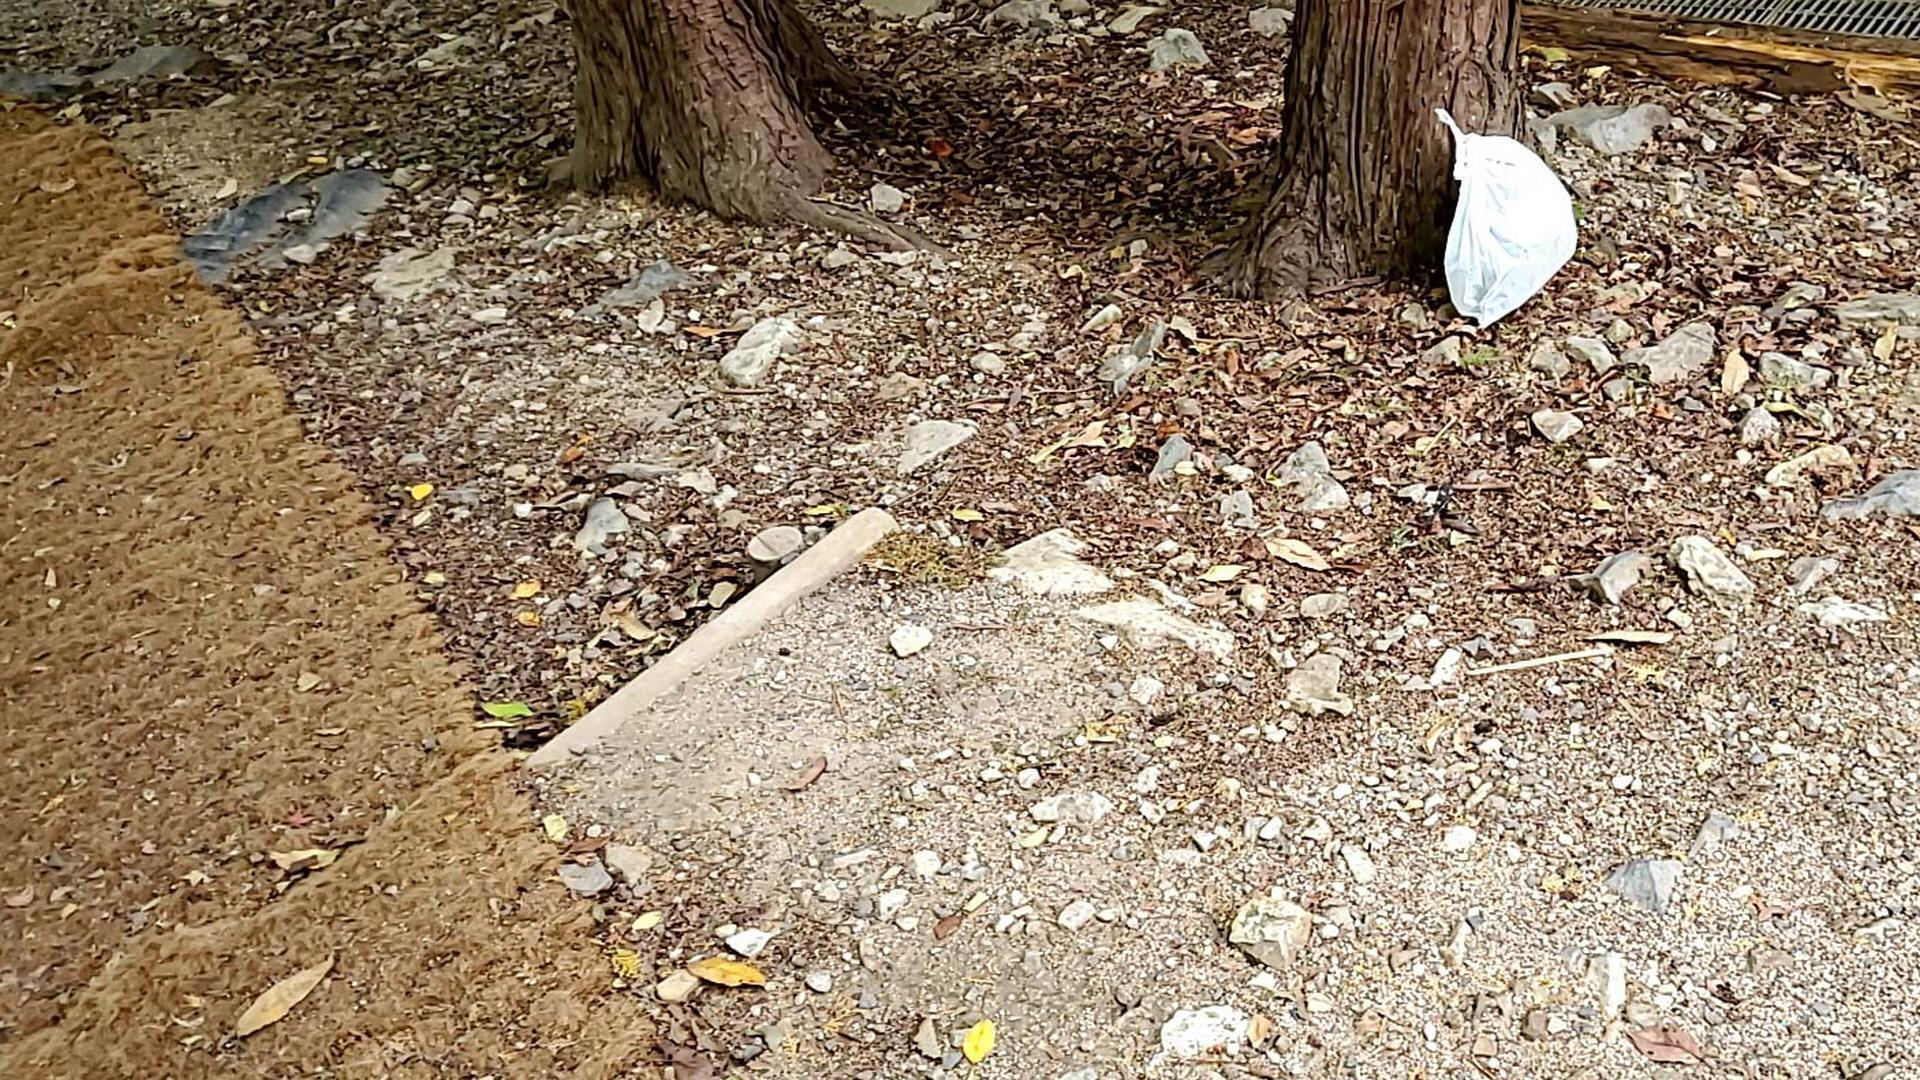white_bag: (1418, 99, 1589, 336)
